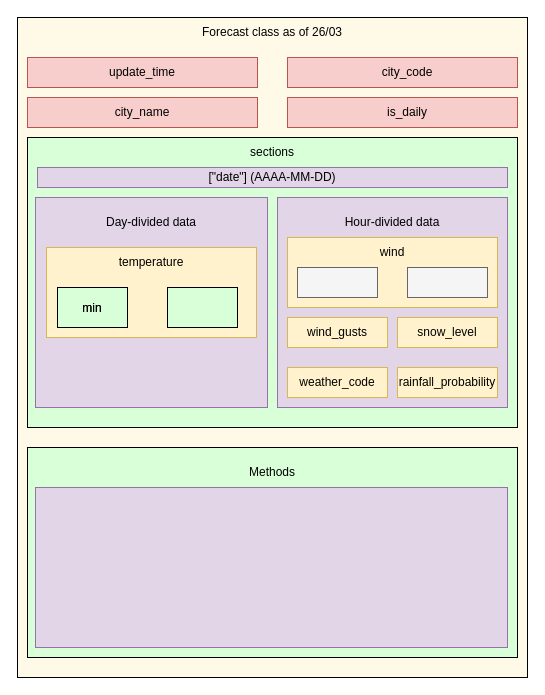
The diagram is 545 pixels wide and 695 high, and some of its shapes have lost their labels. The shapes that lost their labels are listed below. From the top down, each one's centre as x and y in pixels, then its label:
At (337,282): "direction".
At (447,282): "speed".
At (202,307): "max".
At (271,567): "refresh_forecast(self)".
